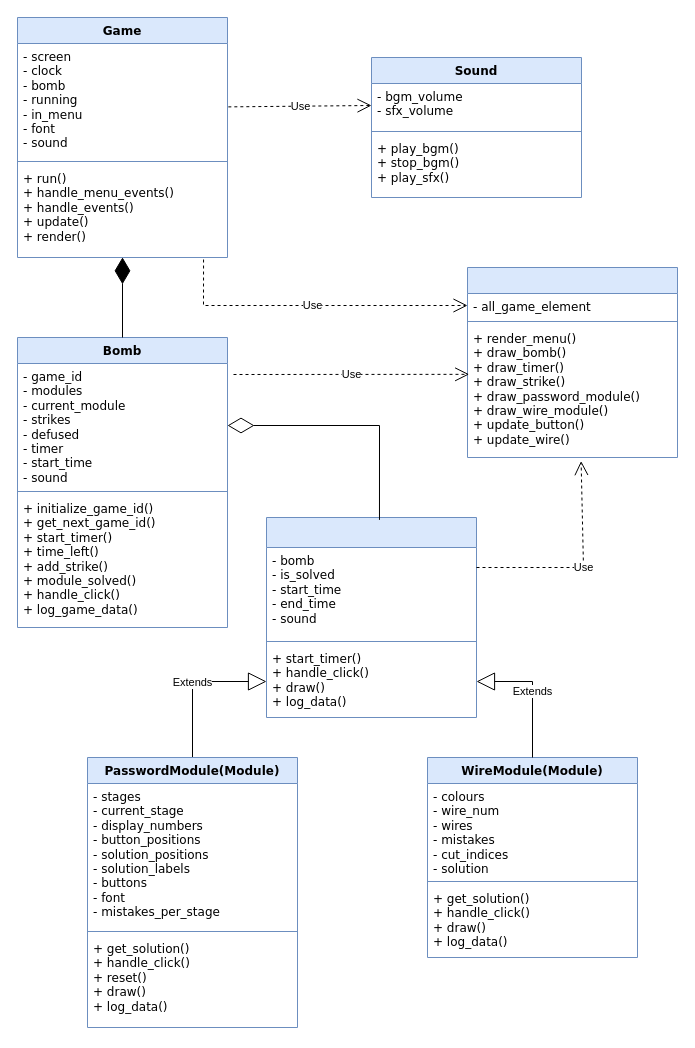
This 695x1048 diagram has some shape labels left out. Each missing label, with the box of its shape:
Drawer: (466, 266, 678, 458)
Module: (266, 516, 476, 718)
